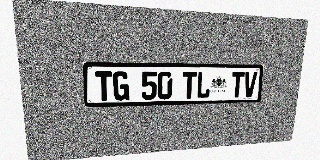0: (157, 71, 172, 99)
5: (142, 71, 157, 100)
G: (113, 71, 129, 101)
L: (196, 72, 211, 98)
T: (95, 71, 113, 101), (182, 71, 197, 99), (230, 72, 245, 98)
V: (243, 72, 257, 97)
